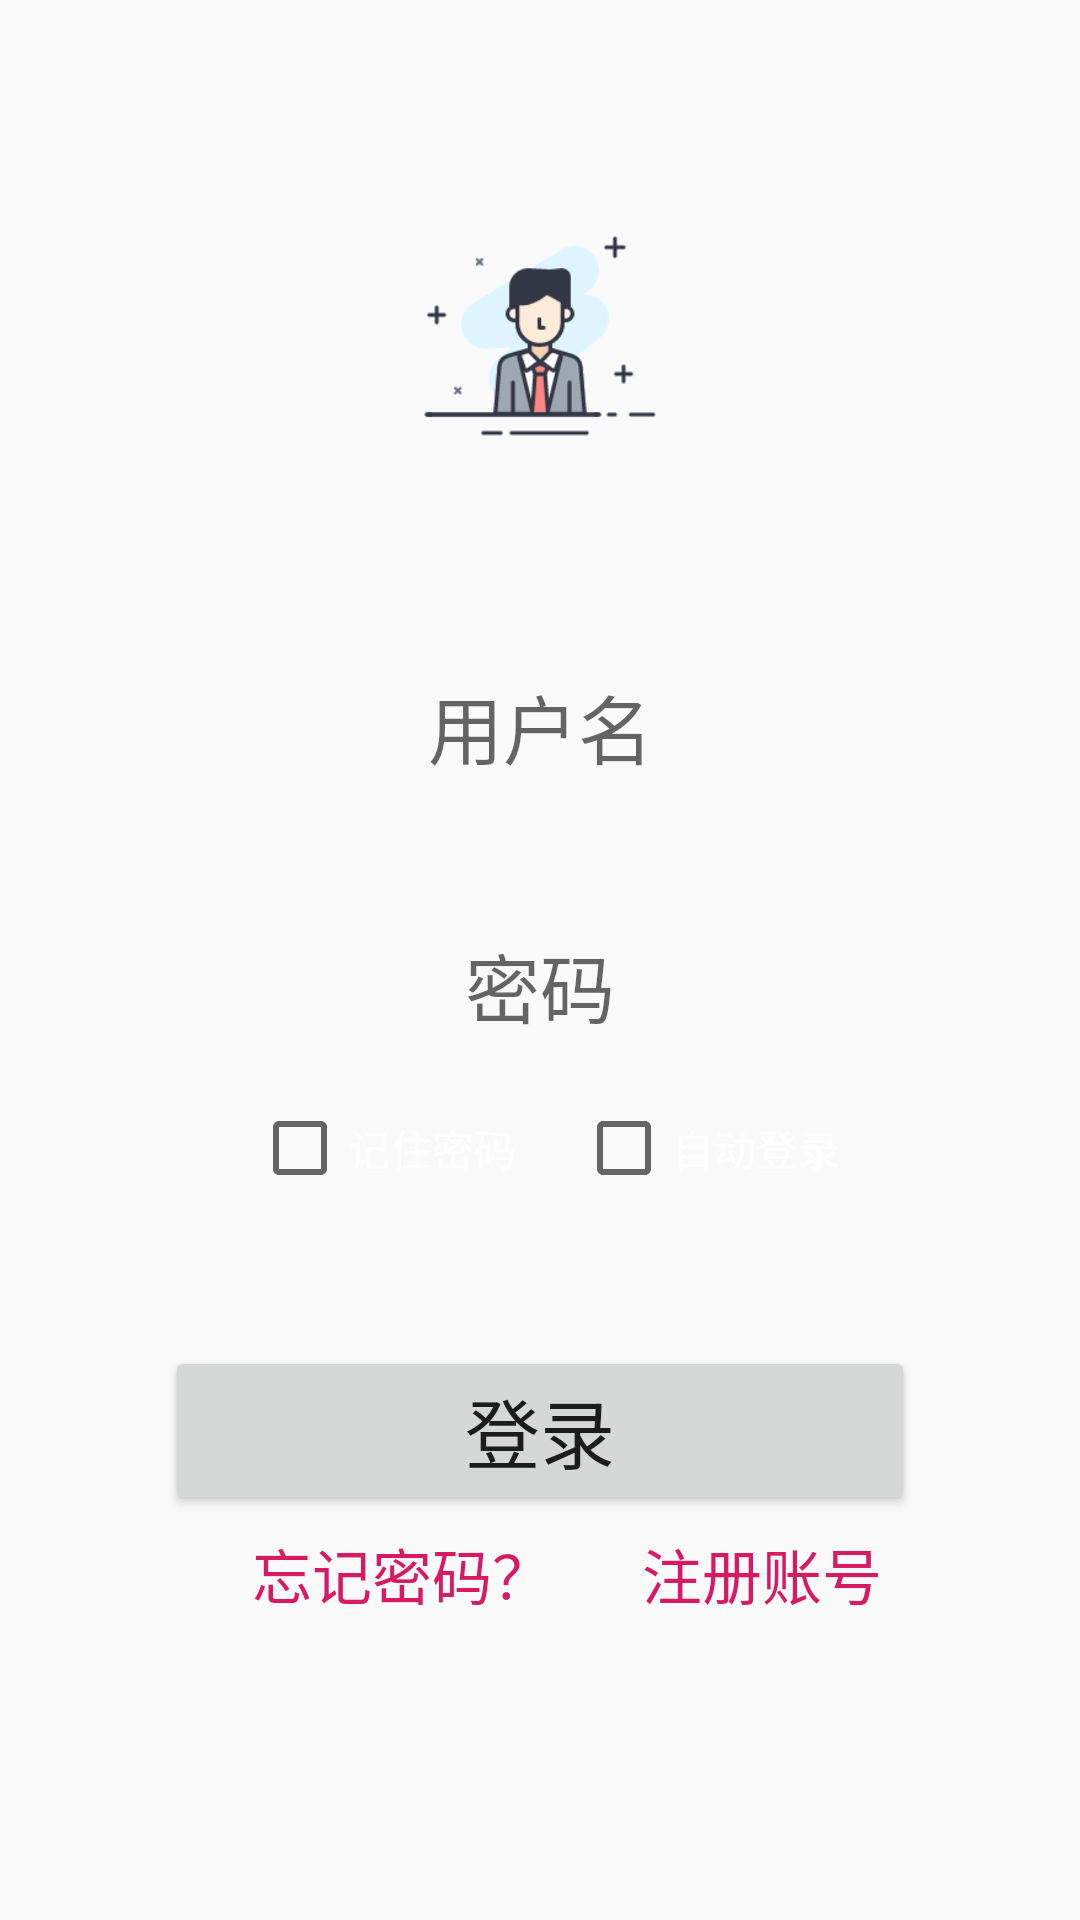

Screen size 1080 x 1920. Icon name, then its center in pixels as (x=x, y=y):
user: (x=540, y=336)
